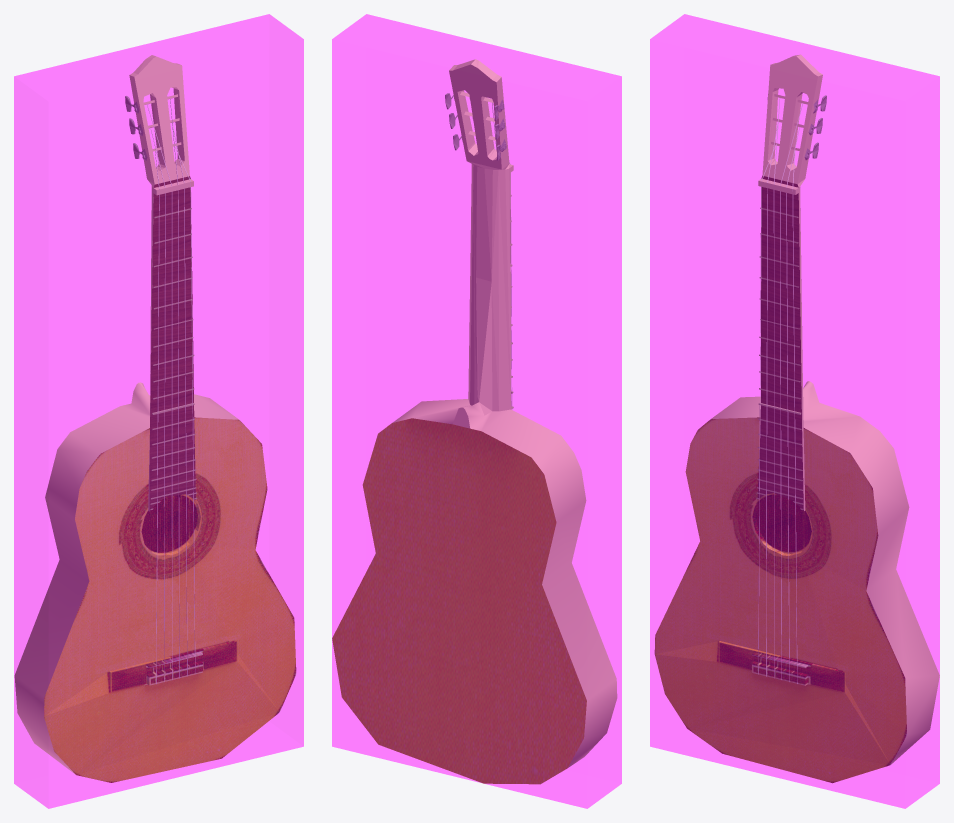
Rendered from guitar.fbx.
The picture shows the model from 3 angles, left to right: view 1: azimuth 30°, elevation 25°; view 2: azimuth 150°, elevation 25°; view 3: azimuth 330°, elevation 25°; orthographic projection.
Visible parts, largest first — view 1: guitar_boundingBox, guitar; view 2: guitar_boundingBox, guitar; view 3: guitar_boundingBox, guitar.
Part boxes in pixels (x1,y1,x2,y2): guitar_boundingBox: [14, 14, 303, 808]; guitar: [14, 55, 296, 782]; guitar_boundingBox: [332, 14, 621, 808]; guitar: [332, 59, 617, 784]; guitar_boundingBox: [650, 14, 939, 808]; guitar: [654, 54, 939, 783].
Size of the model in its own units: 0.5711 by 1.51 by 0.1335.
Materials: 9 (3 with a texture image).
